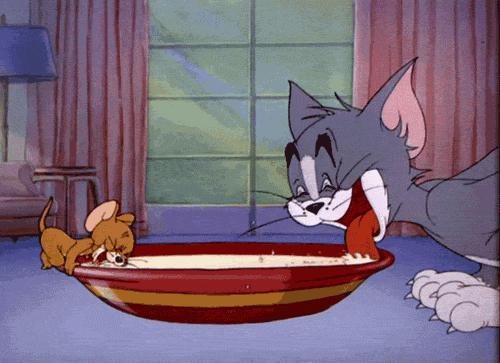jerry: (35, 194, 139, 278)
